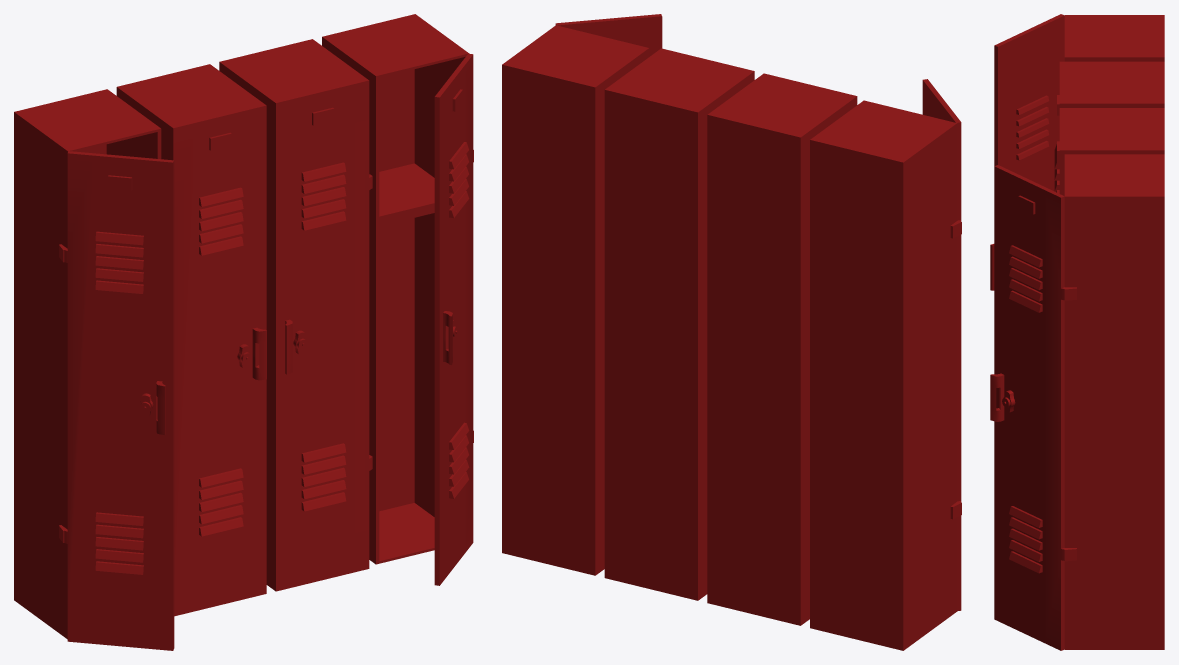
The model's file is lockers.glb.
3 renders of one model, left to right at view 1: azimuth 30°, elevation 25°; view 2: azimuth 150°, elevation 25°; view 3: azimuth 270°, elevation 25°, orthographic. The views are drawn at different scales.
Parts seen in each view (by area): view 1: Object_2; view 2: Object_2; view 3: Object_2.
Part boxes in pixels (x1=…): Object_2: x1=14, y1=14, x2=473, y2=650; Object_2: x1=502, y1=14, x2=961, y2=650; Object_2: x1=990, y1=14, x2=1164, y2=650.
Size of the model in its own units: 2.25 by 2.56 by 0.8906.
